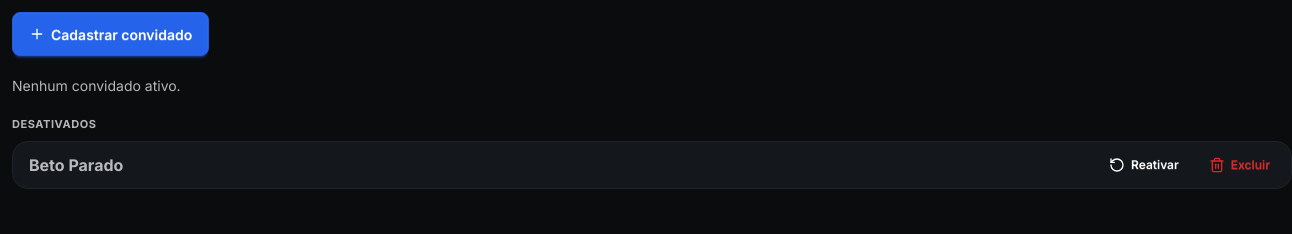
Scenario: CommunityGuestsArea › excluir que so desativa por causa do historico avisa em role status
The width and height of the screenshot is (1292, 234).
Click the button "Excluir" at (1239, 164), box [1196,142,1283,186]
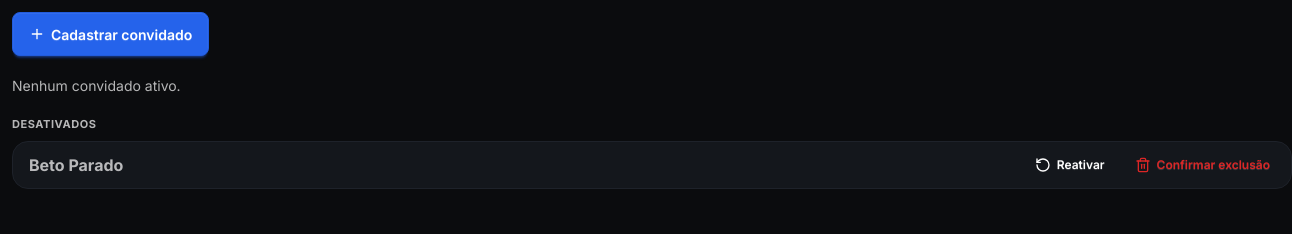
Click the button "Confirmar exclusão" at (1202, 164), box [1122,142,1283,186]
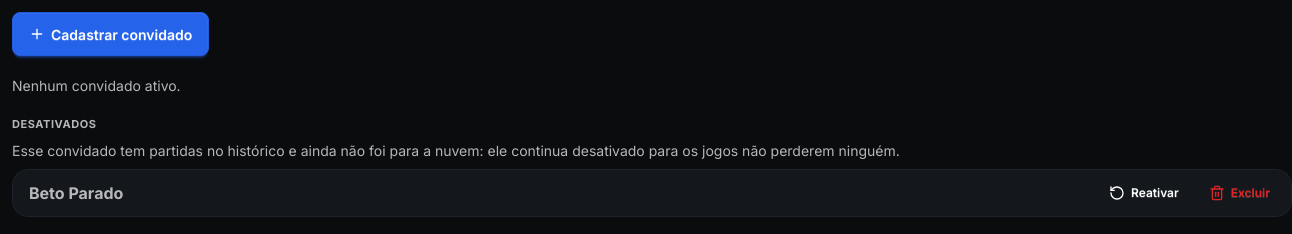
expect the message shows "histórico": met, box [12,142,900,158]
